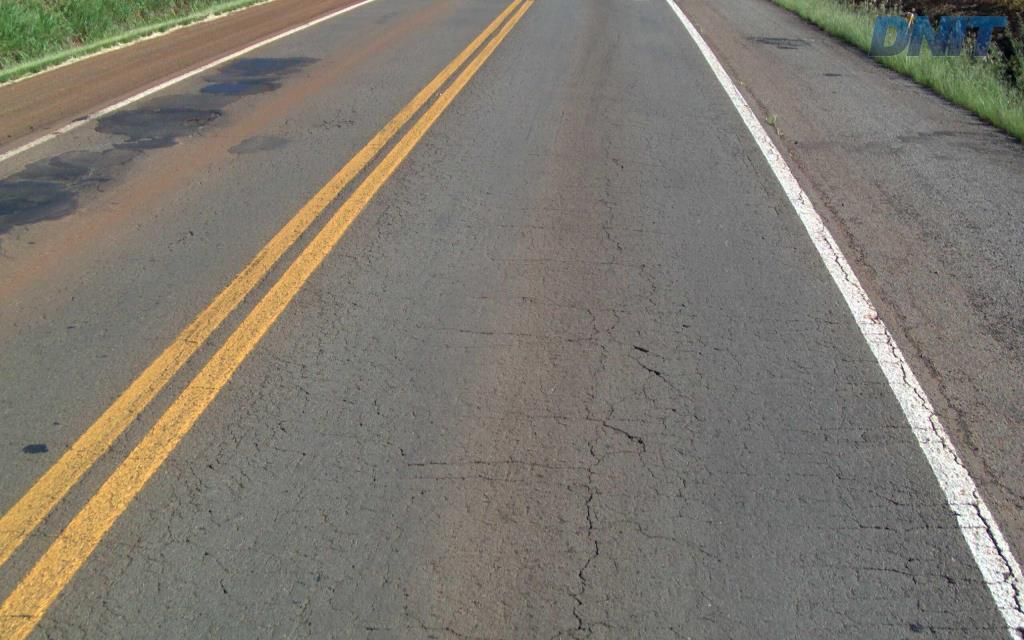crack: (582, 405, 647, 467), (835, 484, 897, 540), (566, 539, 601, 606), (572, 482, 604, 541), (862, 473, 903, 506), (565, 605, 592, 639)
